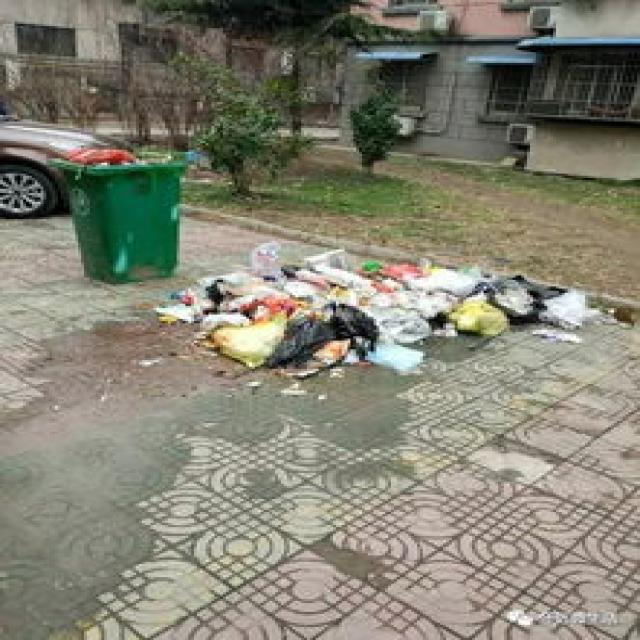overflow: (150, 241, 590, 377), (44, 146, 185, 284)
